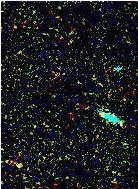star: (5, 149, 35, 179)
